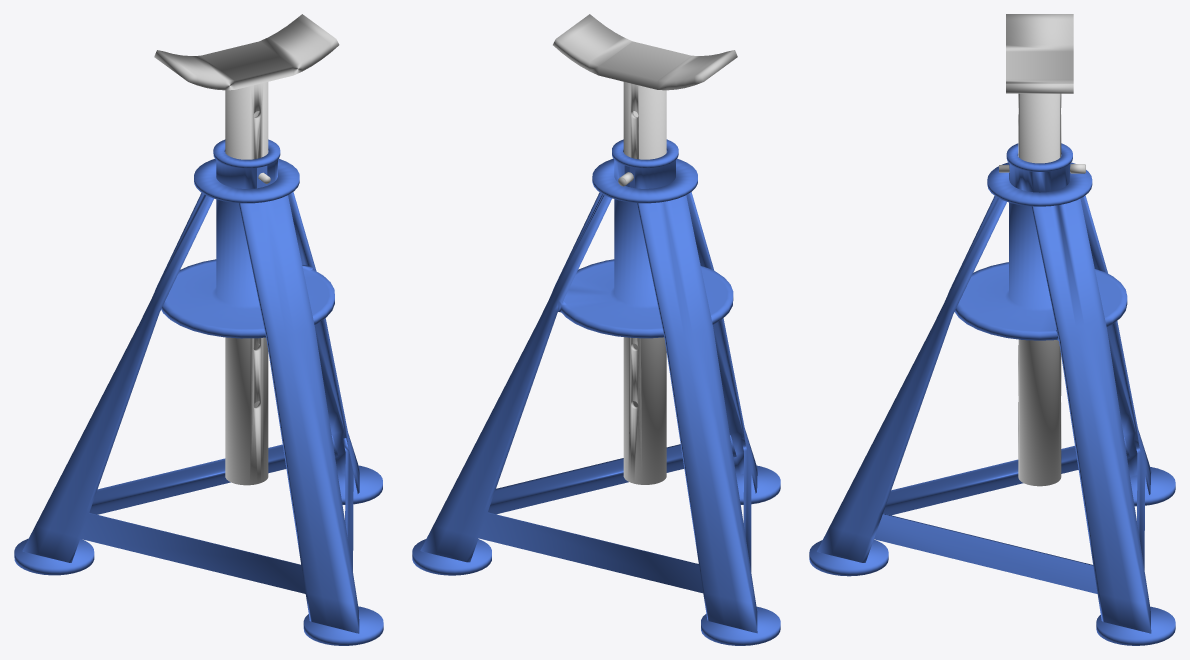
Rendered from 釣り竿スタンド.fbx.
3 renders of one model, left to right at view 1: azimuth 30°, elevation 25°; view 2: azimuth 150°, elevation 25°; view 3: azimuth 270°, elevation 25°, orthographic.
Parts seen in each view (by area): view 1: stand.001, jack.001; view 2: stand.001, jack.001; view 3: stand.001, jack.001.
Boxes of the visible parts, x1,y1,x2,y2 form: stand.001: (14, 139, 383, 645); jack.001: (154, 14, 339, 485); stand.001: (412, 139, 780, 645); jack.001: (553, 14, 737, 484); stand.001: (809, 143, 1175, 645); jack.001: (1006, 14, 1073, 486).
Size of the model in its own units: 20.06 by 27.56 by 17.92.
